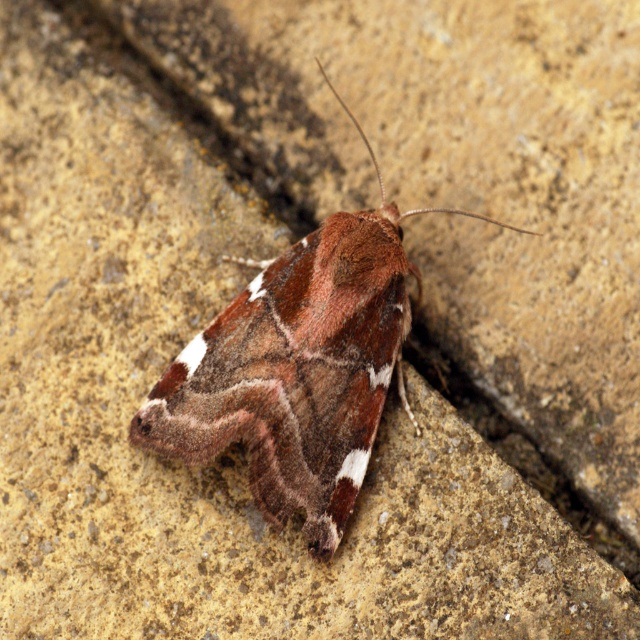Moths and butterflies: (128, 53, 545, 567)
